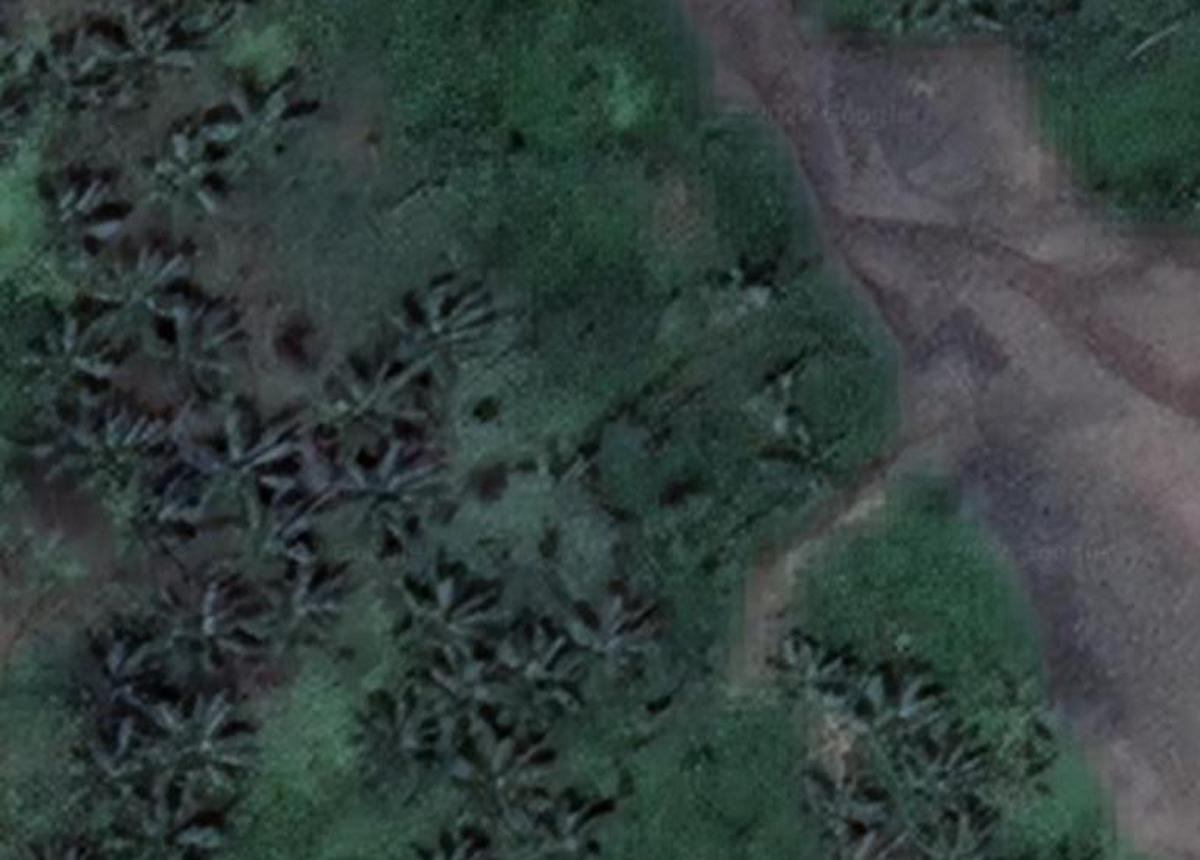coconut: (470, 607, 590, 733), (331, 437, 456, 551), (185, 395, 291, 523), (342, 671, 451, 794), (243, 535, 356, 652), (380, 278, 495, 389), (751, 609, 858, 726), (833, 657, 944, 761), (319, 350, 422, 461), (394, 556, 500, 662), (57, 704, 162, 808), (886, 721, 994, 822), (439, 730, 548, 827), (561, 579, 662, 683), (157, 571, 261, 671), (148, 699, 258, 793), (129, 126, 238, 219), (90, 246, 196, 338), (74, 403, 169, 503), (18, 171, 120, 264), (155, 303, 258, 395), (79, 616, 172, 716), (229, 70, 310, 180), (110, 4, 208, 93), (512, 785, 618, 860), (28, 319, 110, 408), (113, 490, 199, 565)
